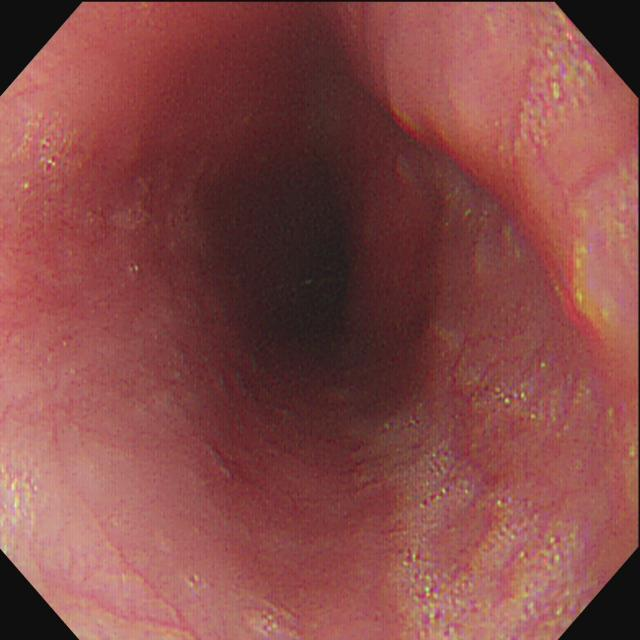E: (285, 199, 342, 335)
T: (396, 416, 578, 640)
